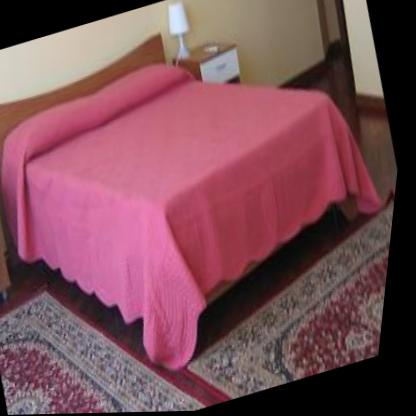Bed: (0, 8, 384, 360)
